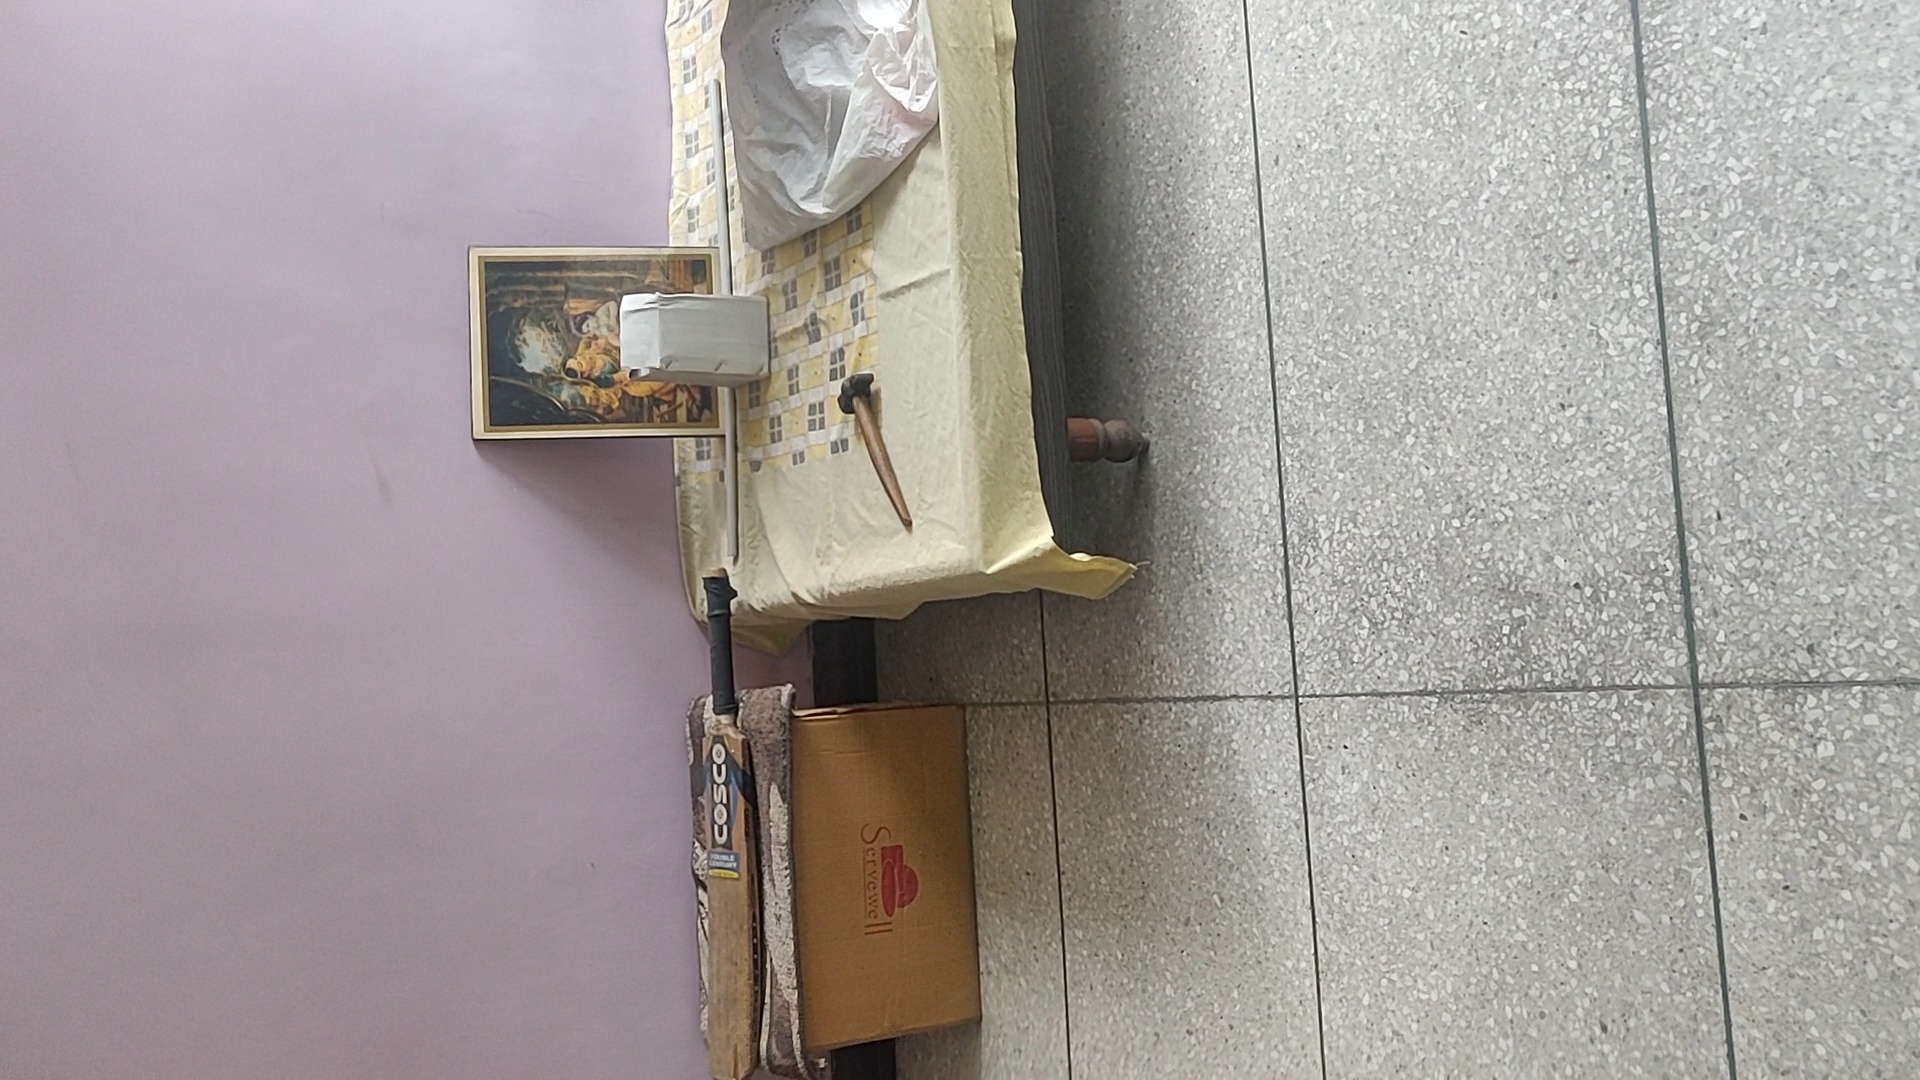hammer: (833, 375, 916, 533)
